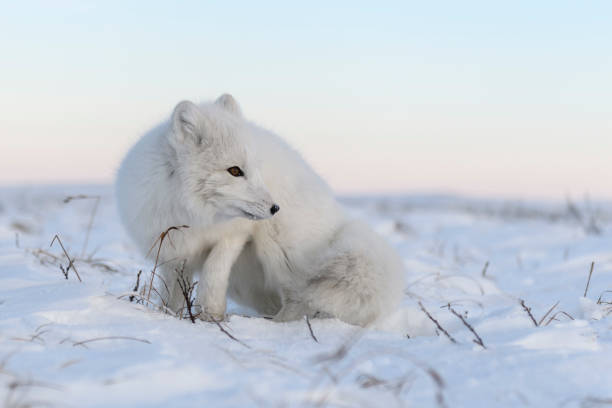arcticfox: (187, 137, 278, 231)
